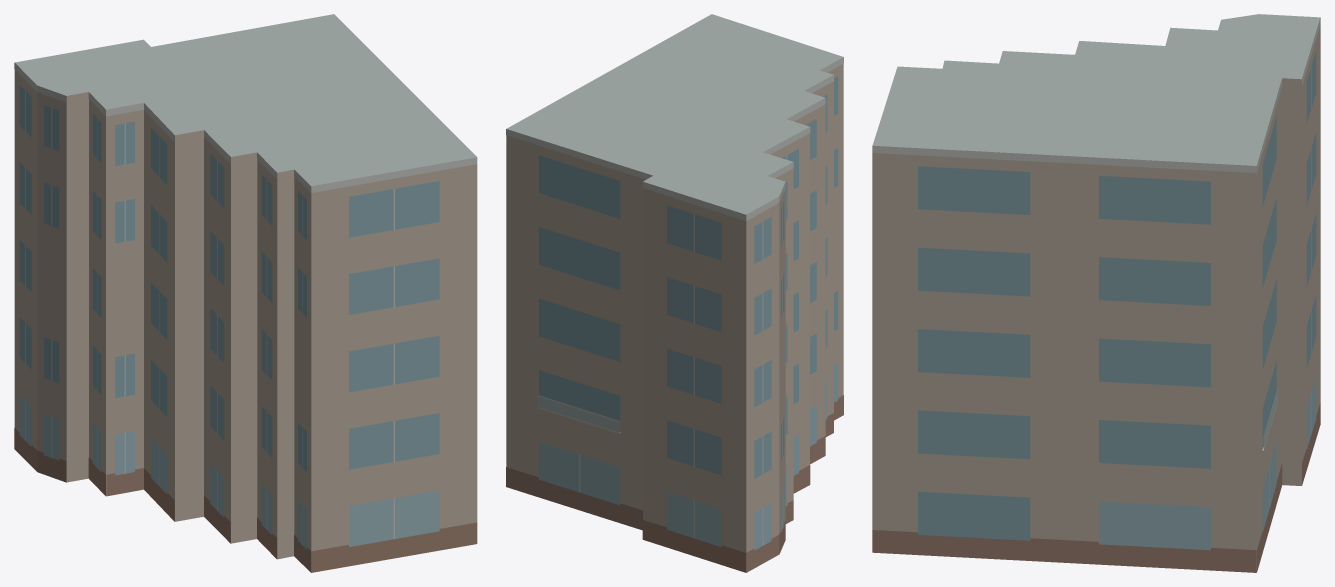
Rendered from survey-upis-32708238.glb.
3 views of the same model, side by side, from view 1: azimuth 30°, elevation 25°; view 2: azimuth 150°, elevation 25°; view 3: azimuth 270°, elevation 25° (orthographic). The views are drawn at different scales.
Parts seen in each view (by area): view 1: survey-upis-32708238.tmp; view 2: survey-upis-32708238.tmp; view 3: survey-upis-32708238.tmp.
Part boxes in pixels (<box>): survey-upis-32708238.tmp: <box>14,14,477,572</box>; survey-upis-32708238.tmp: <box>506,14,843,572</box>; survey-upis-32708238.tmp: <box>872,14,1320,572</box>.
Size of the model in its own units: 11.06 by 13.8 by 13.78.
